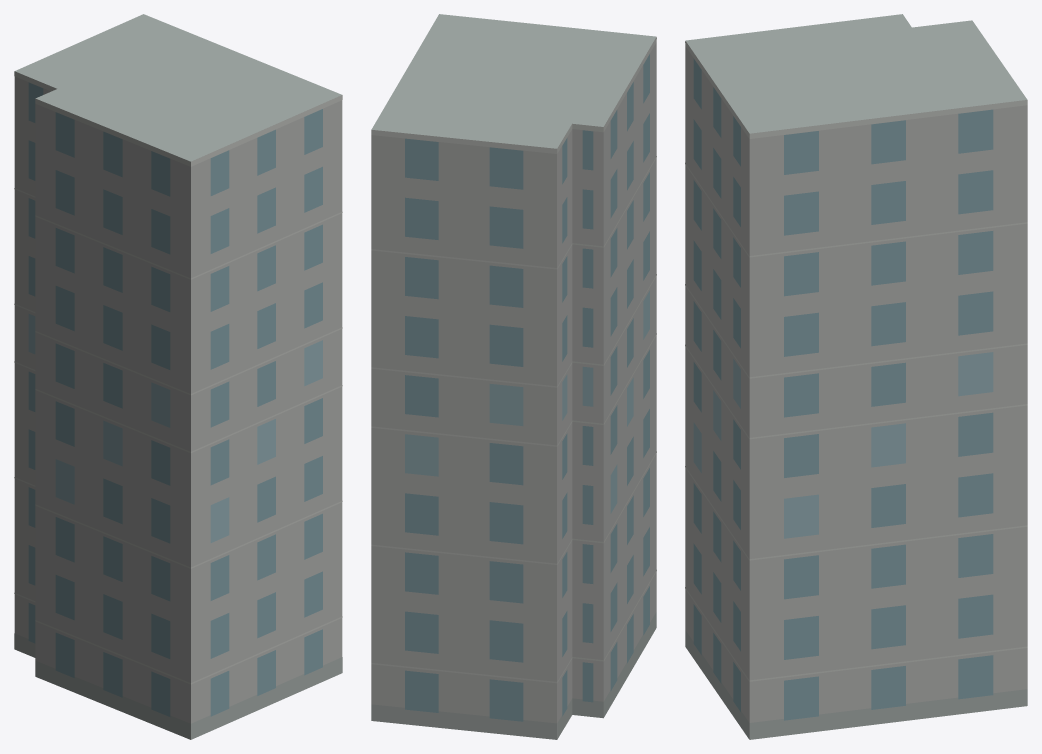
File: survey-upis-32830802.glb
The picture shows the model from 3 angles, left to right: view 1: azimuth 30°, elevation 25°; view 2: azimuth 150°, elevation 25°; view 3: azimuth 270°, elevation 25°; orthographic projection. The views are drawn at different scales.
Visible parts, largest first — view 1: survey-upis-32830802.tmp; view 2: survey-upis-32830802.tmp; view 3: survey-upis-32830802.tmp.
Boxes of the visible parts, box(x1,y1,x2,y2) form: survey-upis-32830802.tmp: box(14, 14, 342, 739); survey-upis-32830802.tmp: box(371, 14, 656, 739); survey-upis-32830802.tmp: box(685, 14, 1027, 739).
Bounding box in the file's own units: 11.54 × 27.2 × 13.94.
